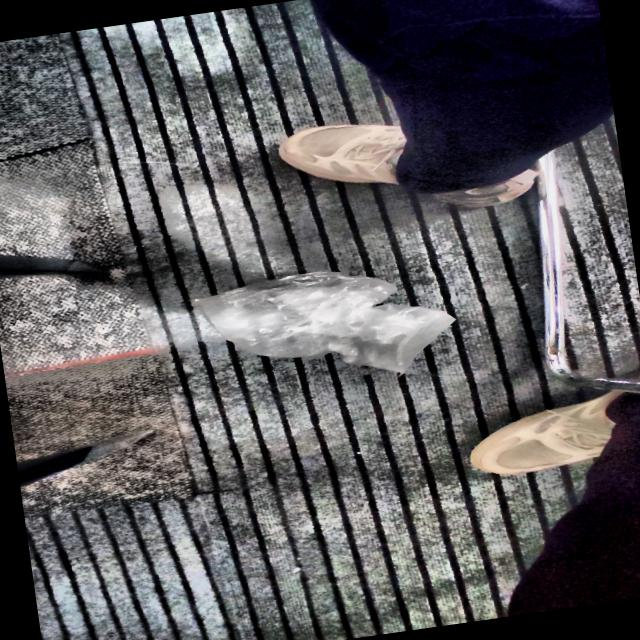plastic bag: (193, 271, 454, 373)
